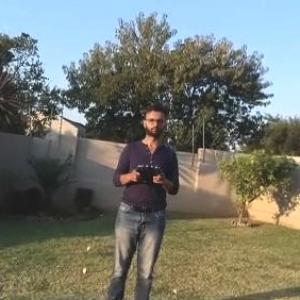follow: (102, 101, 186, 299)
